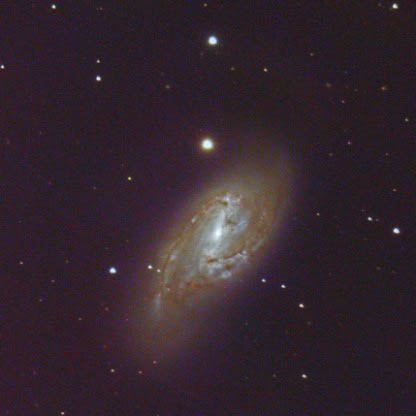Messier 66: (101, 120, 322, 380)
